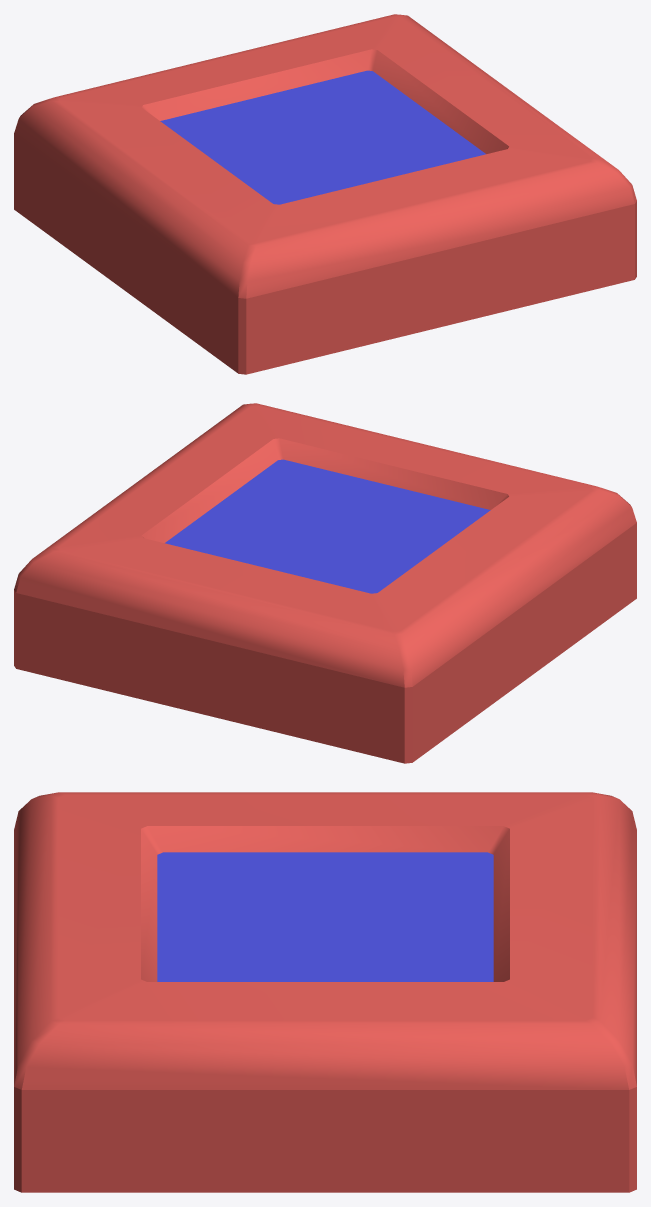
File: pedestal.fbx
3 renders of one model, top to bottom at view 1: azimuth 30°, elevation 25°; view 2: azimuth 150°, elevation 25°; view 3: azimuth 270°, elevation 25°, orthographic. The views are drawn at different scales.
Visible parts, largest first — view 1: pedestal; view 2: pedestal; view 3: pedestal.
Boxes of the visible parts, left/top/right/bottom form: pedestal: left=14, top=14, right=636, bottom=374; pedestal: left=14, top=403, right=636, bottom=763; pedestal: left=14, top=792, right=636, bottom=1192.
Bounding box in the file's own units: 100 × 27.94 × 100.
